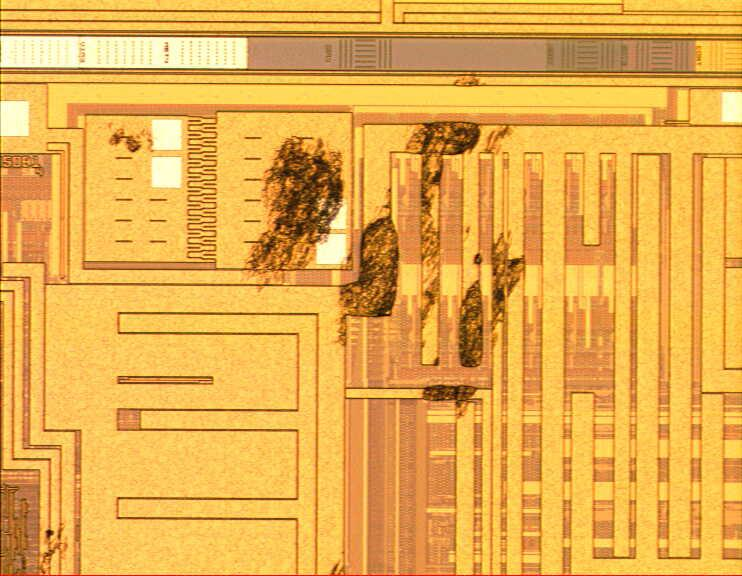SCRATCH: (14, 64, 536, 576)
